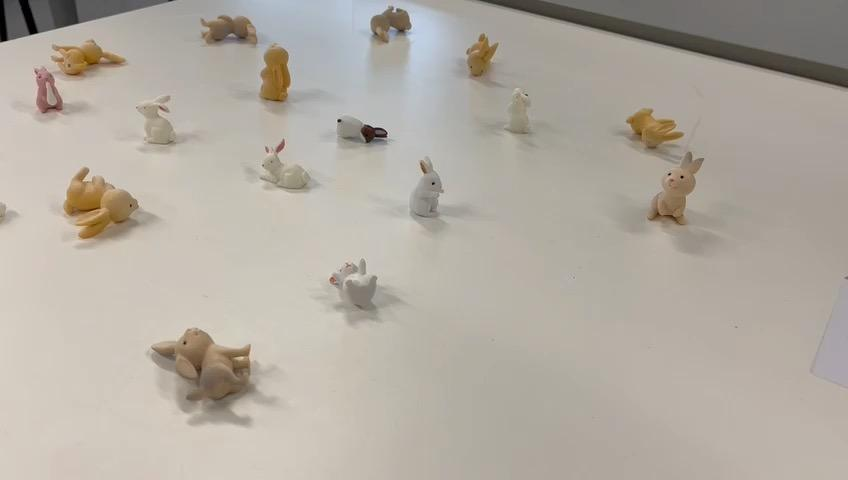pet: (142, 317, 258, 403), (59, 161, 144, 252), (650, 150, 708, 227), (328, 254, 392, 307), (15, 67, 71, 124), (47, 36, 128, 75), (623, 98, 686, 146), (136, 96, 191, 148), (259, 135, 316, 179), (325, 107, 392, 142), (196, 8, 267, 41), (363, 2, 414, 47), (458, 27, 505, 75), (259, 44, 297, 99), (502, 86, 536, 142), (406, 155, 441, 208)
